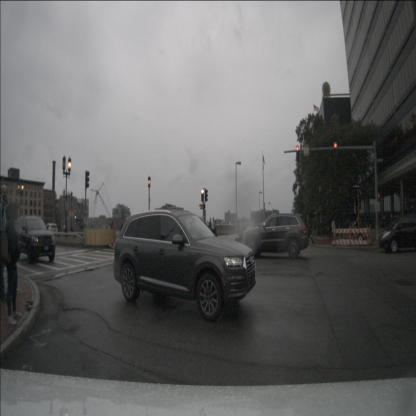human-pedestrian-adult: (0, 202, 22, 326), (0, 184, 19, 298), (307, 219, 316, 247), (331, 219, 336, 244), (211, 217, 215, 239), (208, 218, 212, 237), (214, 220, 218, 239), (79, 222, 83, 238), (111, 222, 114, 238), (63, 223, 66, 238)
vehicle-car: (113, 209, 256, 322), (242, 214, 309, 260), (10, 216, 56, 262), (378, 216, 416, 254), (235, 223, 284, 252), (43, 223, 58, 237)
